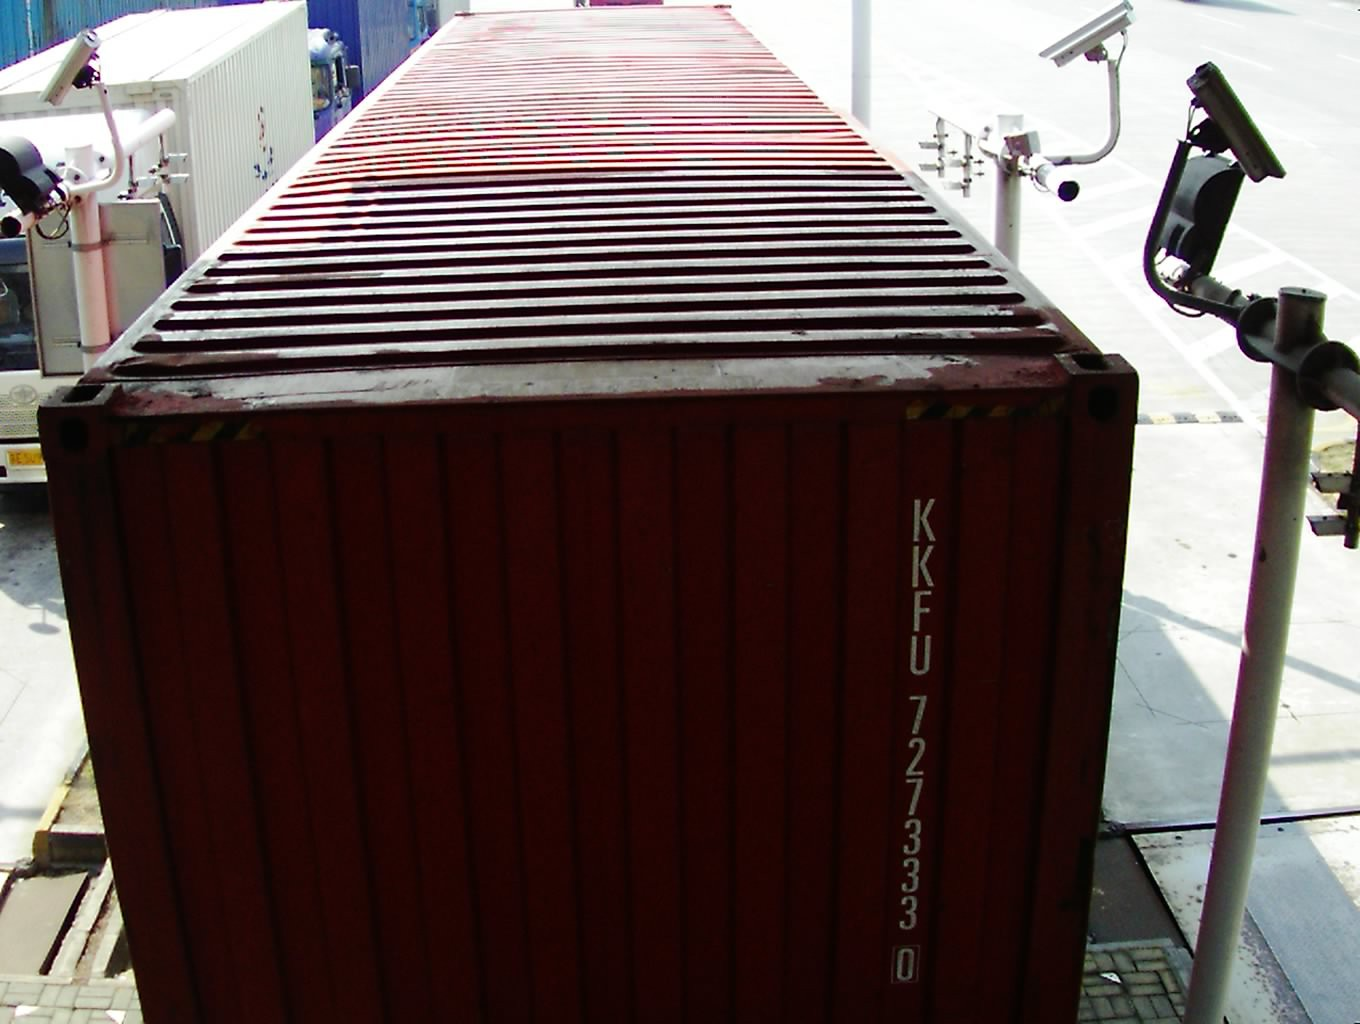container: (85, 4, 1140, 1002), (0, 8, 305, 414), (268, 4, 447, 113)
words: (897, 484, 939, 989)
